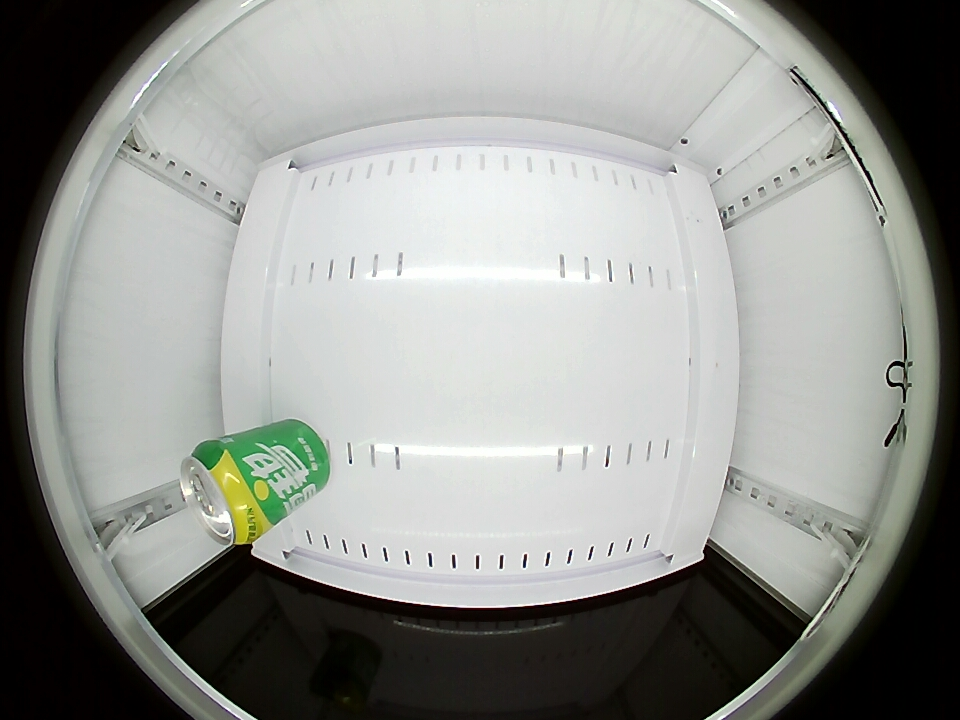xuebi2: (180, 440, 271, 546)
